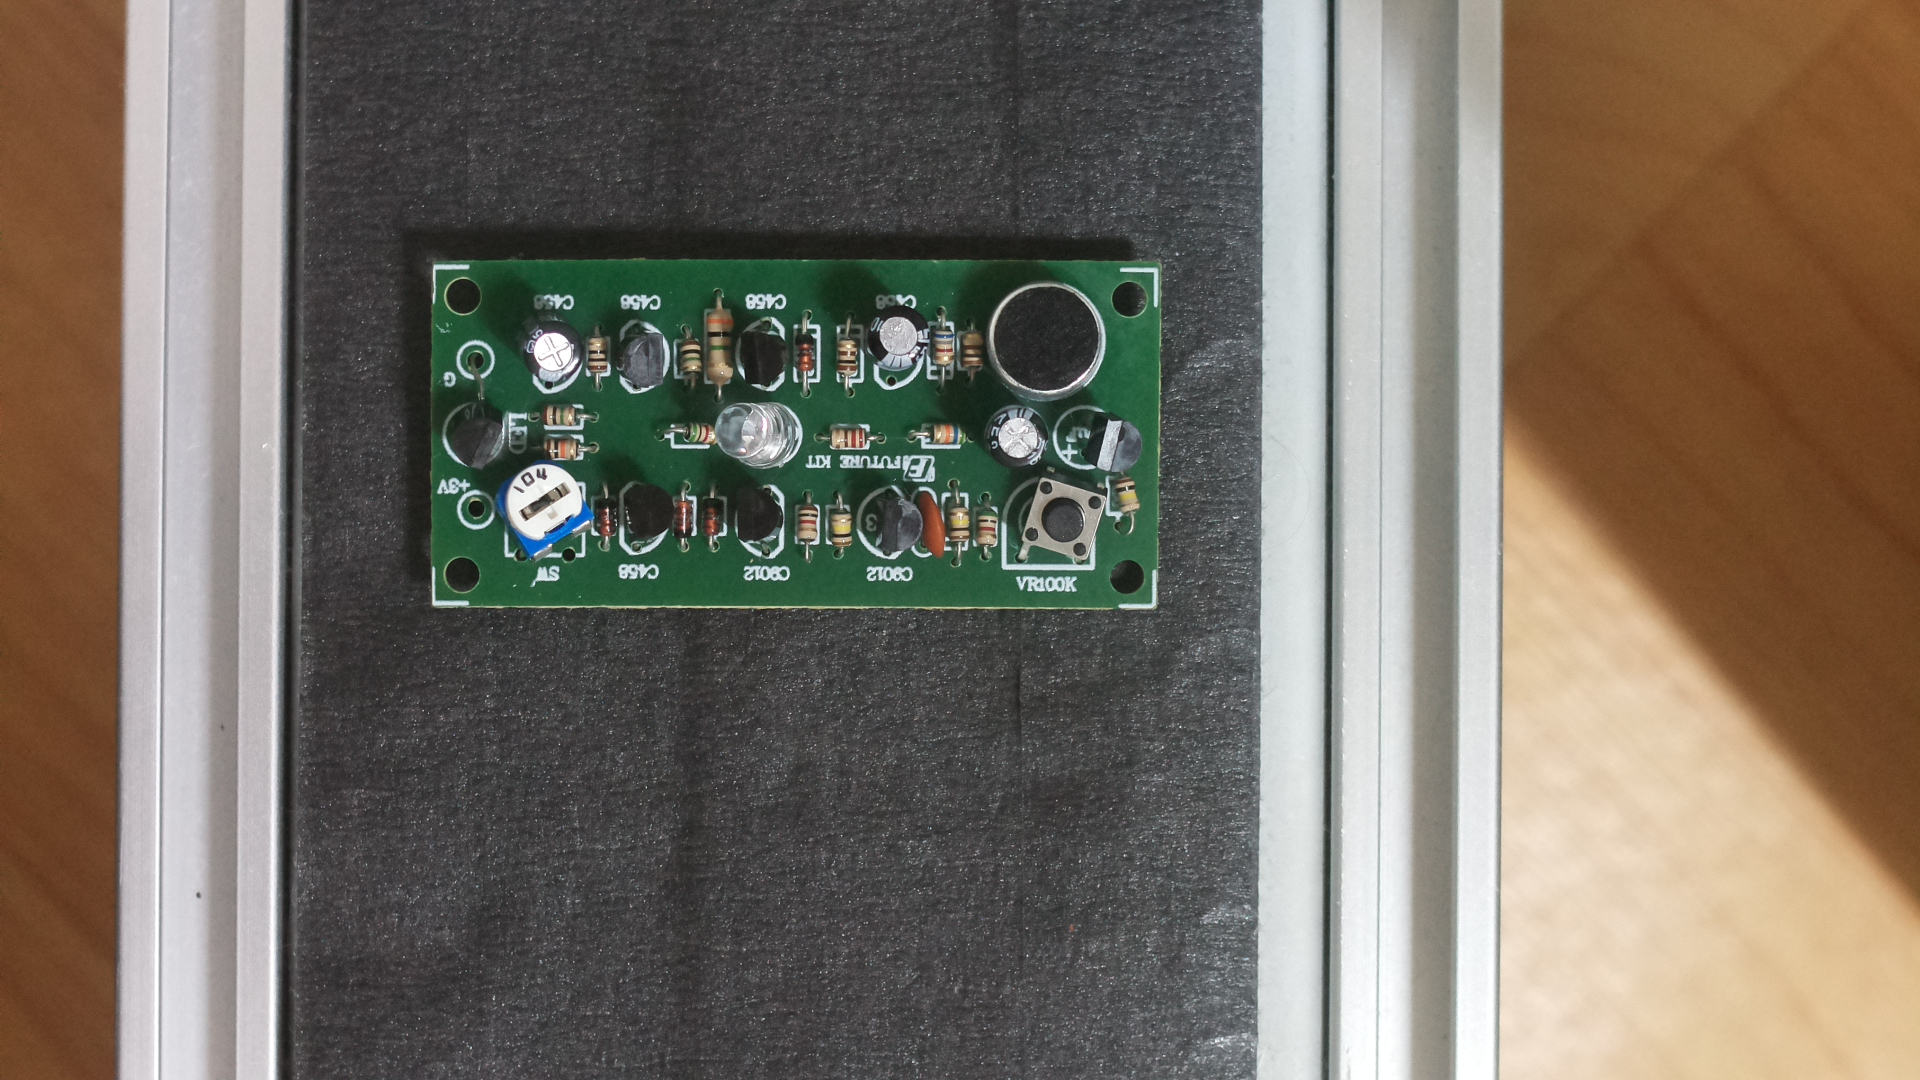A_Misordered: (411, 243, 1174, 629)
